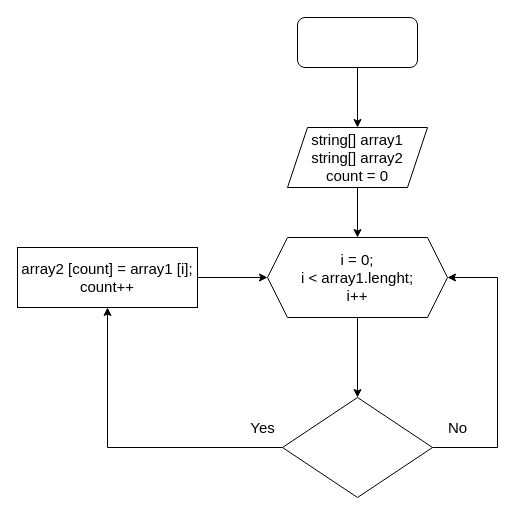
Image size: 523x515. Some labels were removed from this diagram. The shapes that lost their labels are listed below. From the top down, each one's centre as x and y in pixels, then its label:
At [357,42]: "Array".
At [357,447]: "array1.lenght <= 3".
